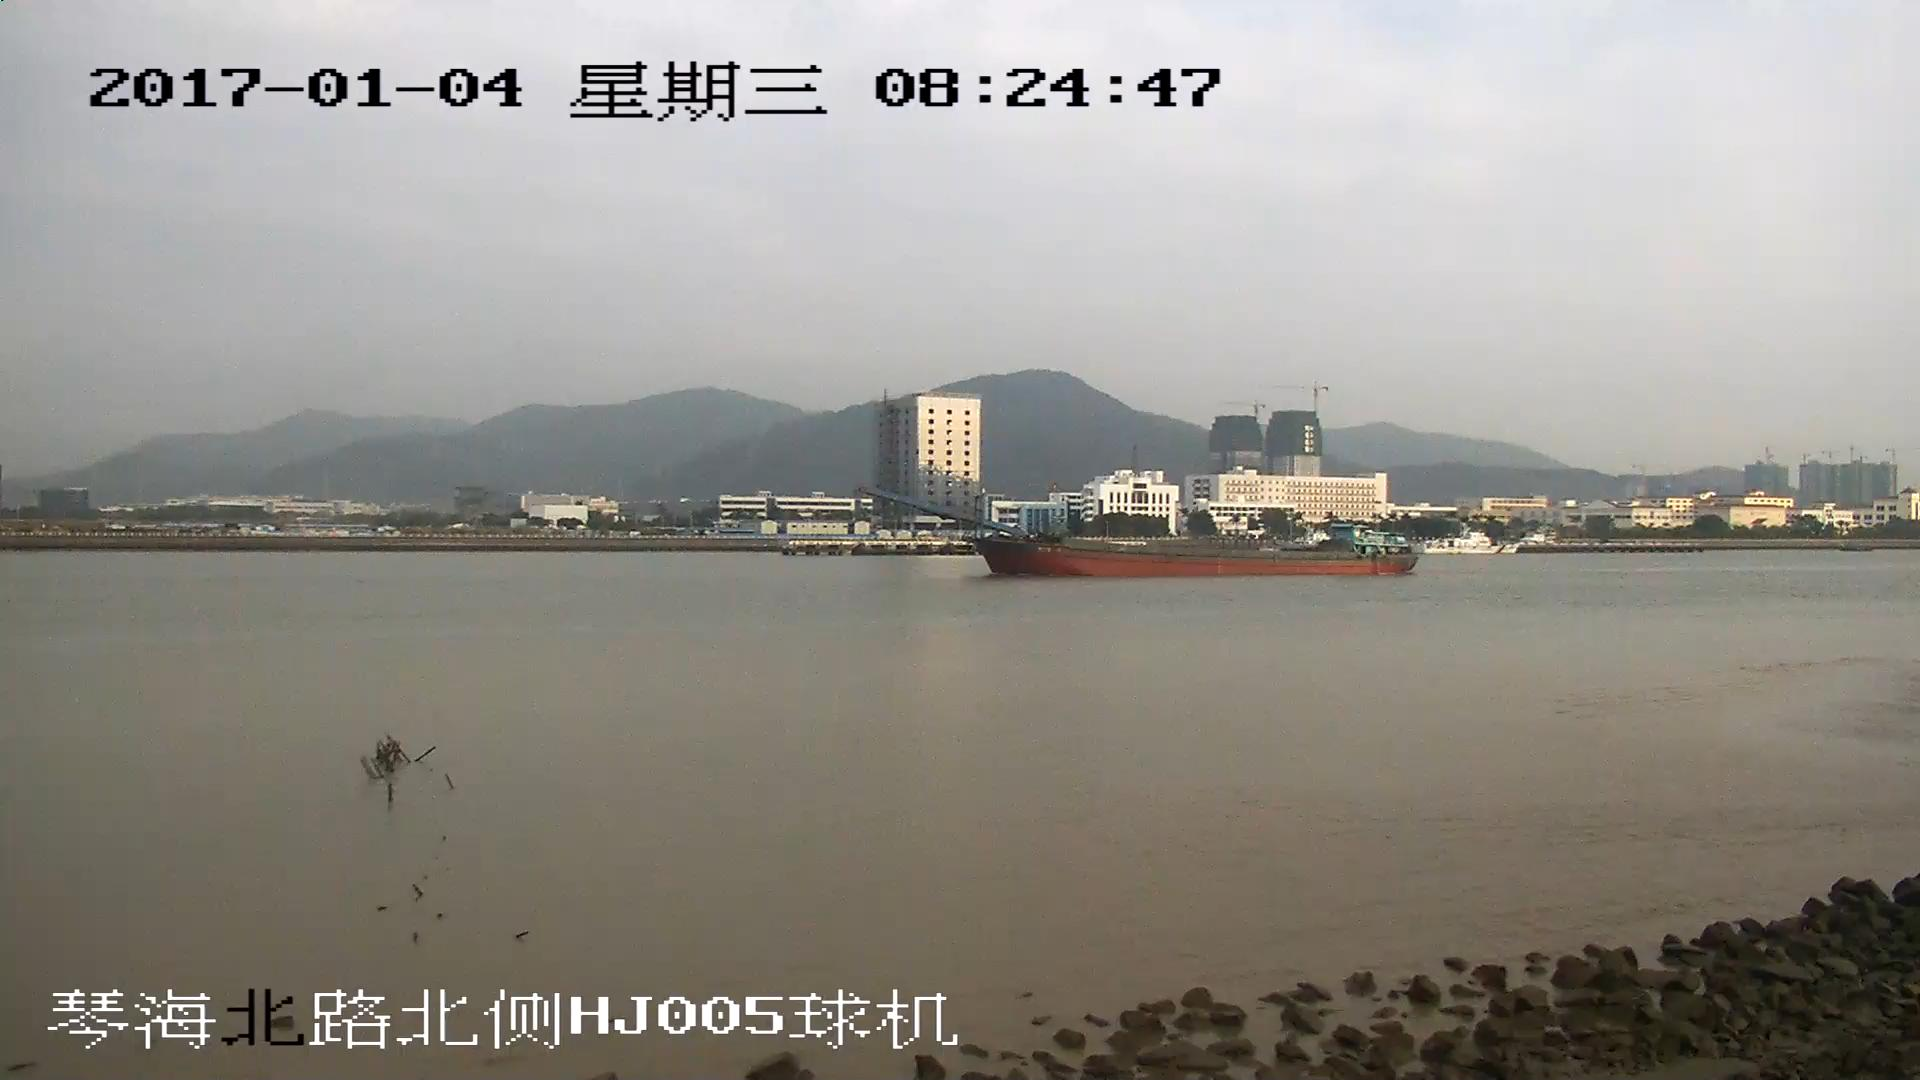bulk cargo carrier: (871, 490, 1414, 575)
